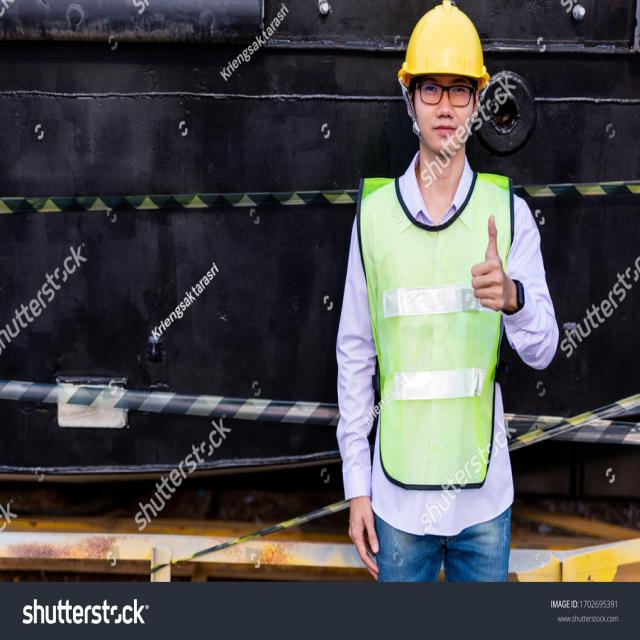helmet: (393, 0, 493, 94)
no-goggles: (414, 76, 481, 112)
vest: (352, 172, 522, 494)
